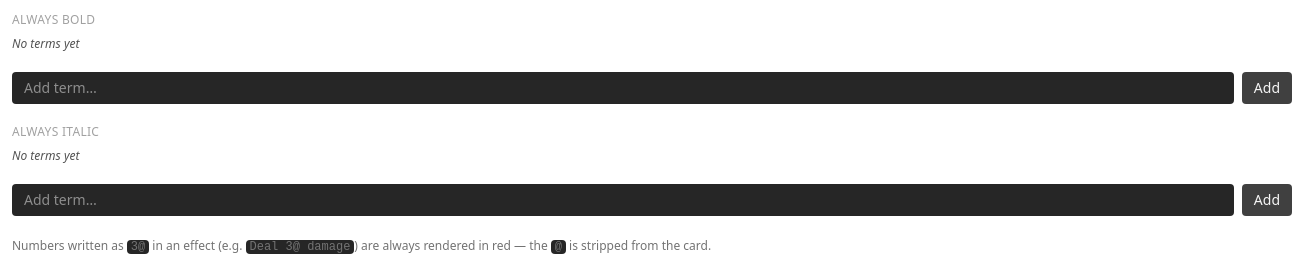
Scenario: EffectFormattingEditor › renders added bold term as a tag on screen
Type "Charge" into the field with placeholder "Add term…" below "Always Bold".
click(623, 88); type("Charge")  # box [12,72,1234,104]
Then press Enter
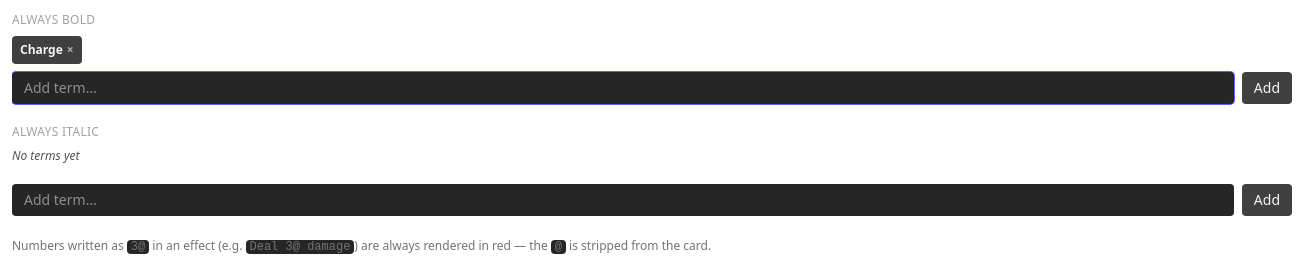
Expected: the text "Charge" is shown, [20,41,63,58]
